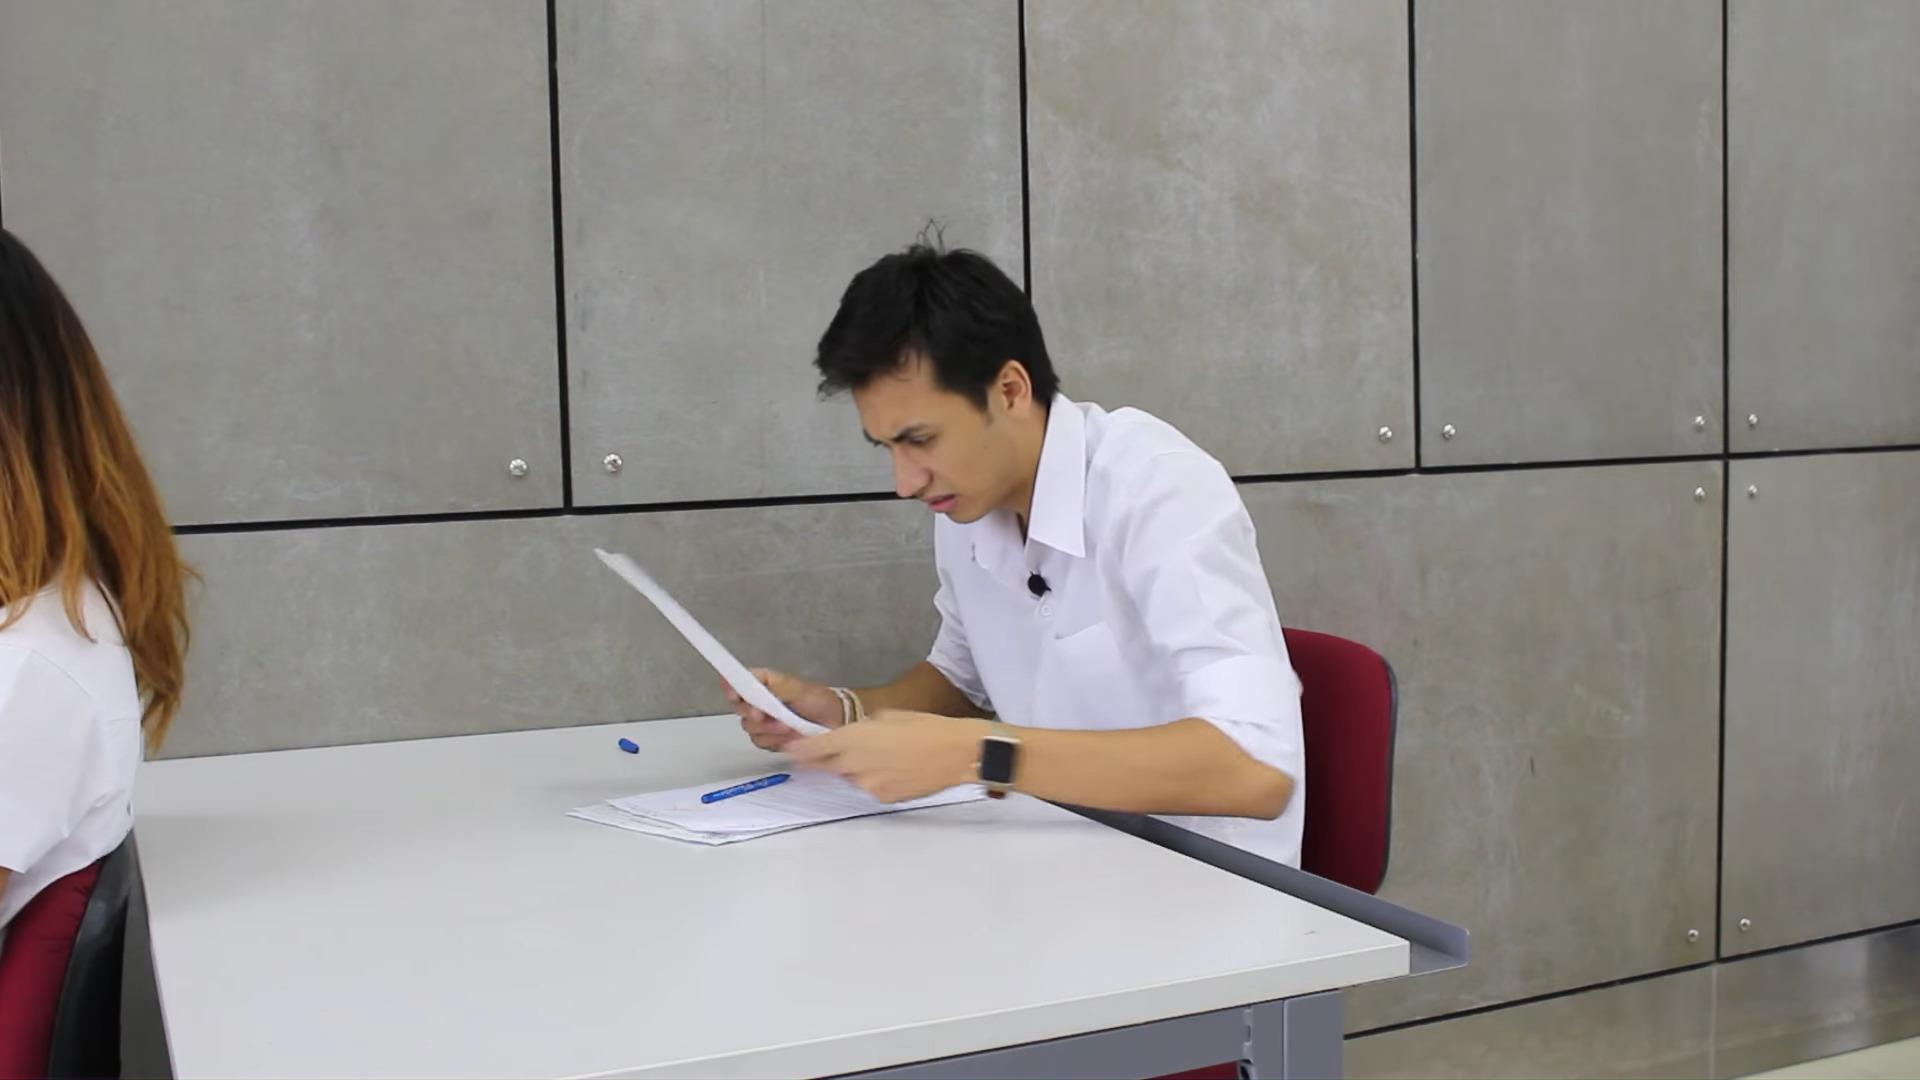good: (526, 215, 1342, 890)
